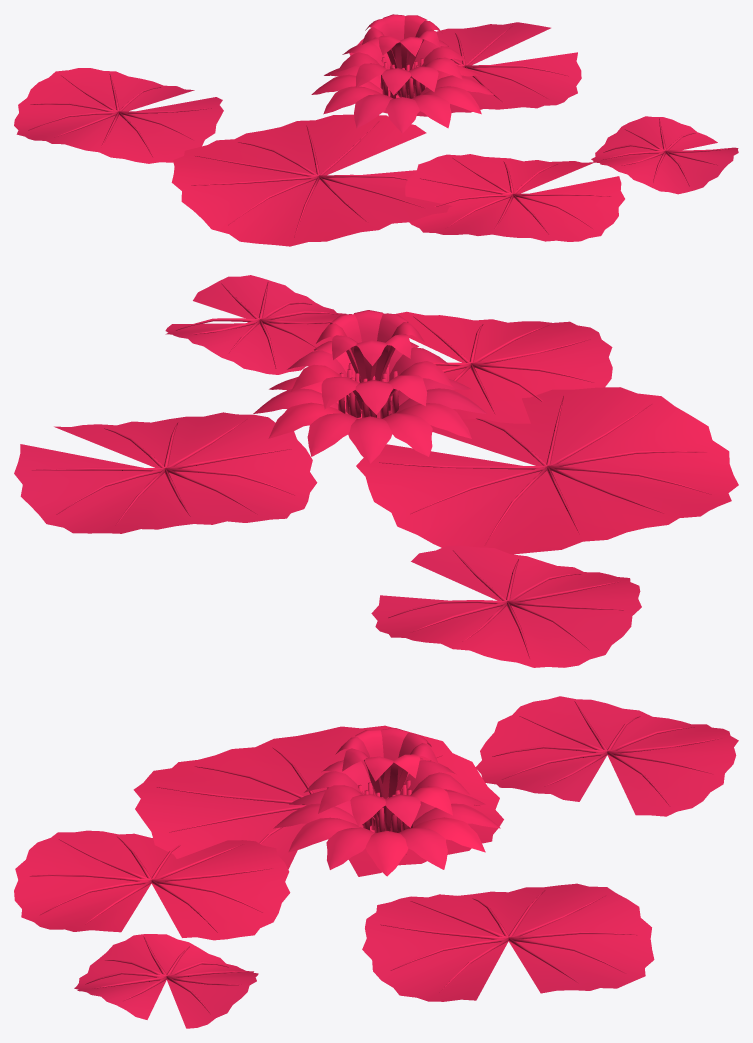
File: SM_LW_WaterLily.fbx
3 renders of one model, top to bottom at view 1: azimuth 30°, elevation 25°; view 2: azimuth 150°, elevation 25°; view 3: azimuth 270°, elevation 25°, orthographic. The views are drawn at different scales.
Visible parts, largest first — view 1: SM_LW_WaterLily; view 2: SM_LW_WaterLily; view 3: SM_LW_WaterLily.
Boxes of the visible parts, left/top/right/bottom form: SM_LW_WaterLily: left=14, top=14, right=738, bottom=246; SM_LW_WaterLily: left=14, top=275, right=738, bottom=667; SM_LW_WaterLily: left=14, top=696, right=738, bottom=1028.
Size of the model in its own units: 95.43 by 98.62 by 20.84.
